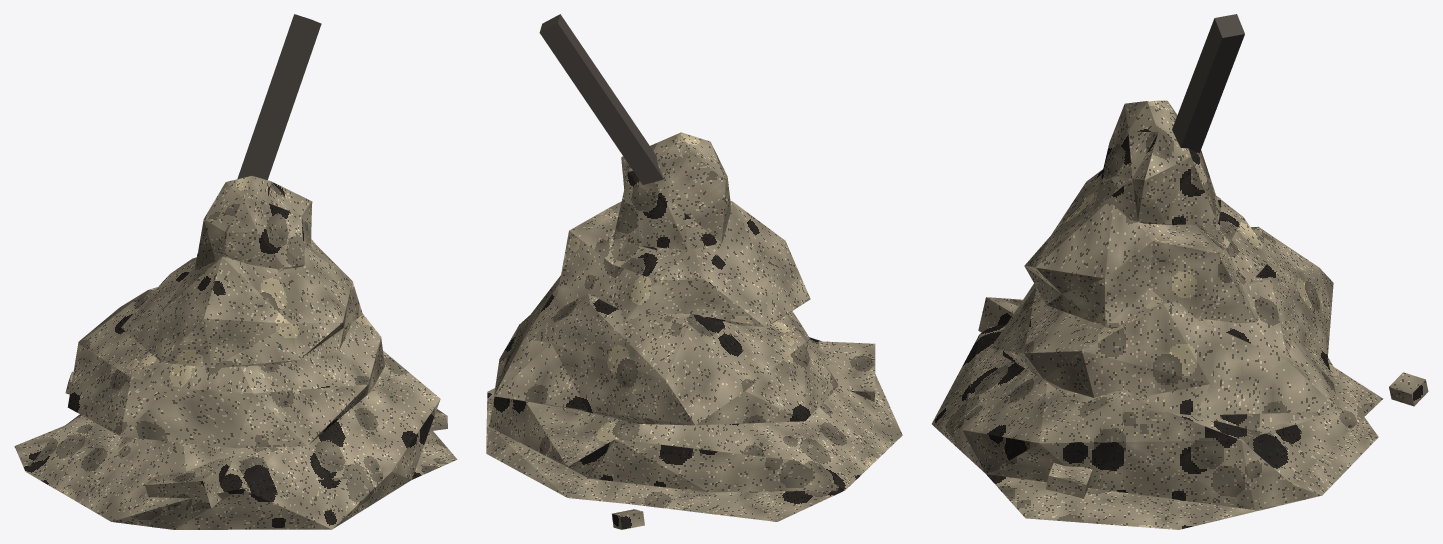
Rendered from rubble_heap_tall.glb.
3 views of the same model, side by side, from view 1: azimuth 30°, elevation 25°; view 2: azimuth 150°, elevation 25°; view 3: azimuth 270°, elevation 25° (orthographic). The views are drawn at different scales.
Visible parts, largest first — view 1: rubble_heap_tall-col; view 2: rubble_heap_tall-col; view 3: rubble_heap_tall-col.
Part boxes in pixels (x1,y1,x2,y2): rubble_heap_tall-col: [14, 14, 457, 529]; rubble_heap_tall-col: [486, 14, 902, 529]; rubble_heap_tall-col: [932, 14, 1428, 529].
Bounding box in the file's own units: 2.01 × 2.15 × 2.03.
Materials: 2 (1 with a texture image).
